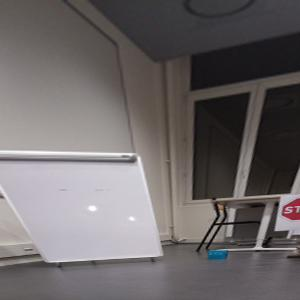stop: (283, 198, 300, 221)
